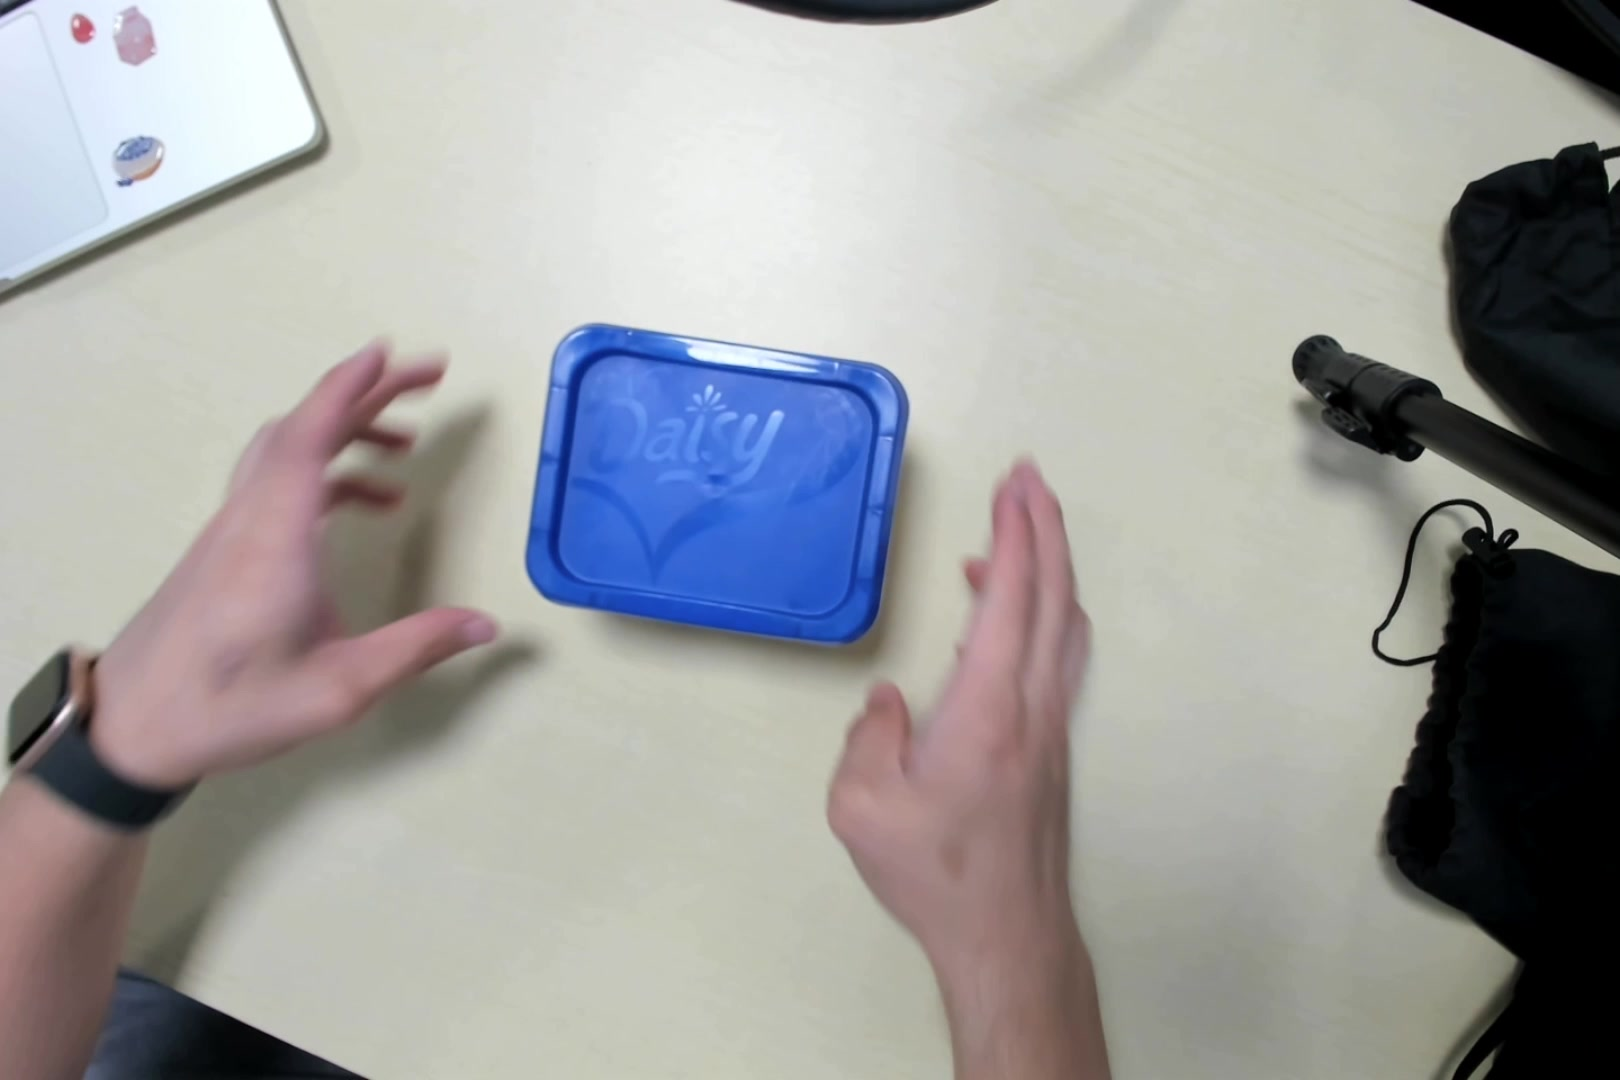OtherSpreads_400-499g_Halal_NonHealthy: (533, 327, 911, 653)
